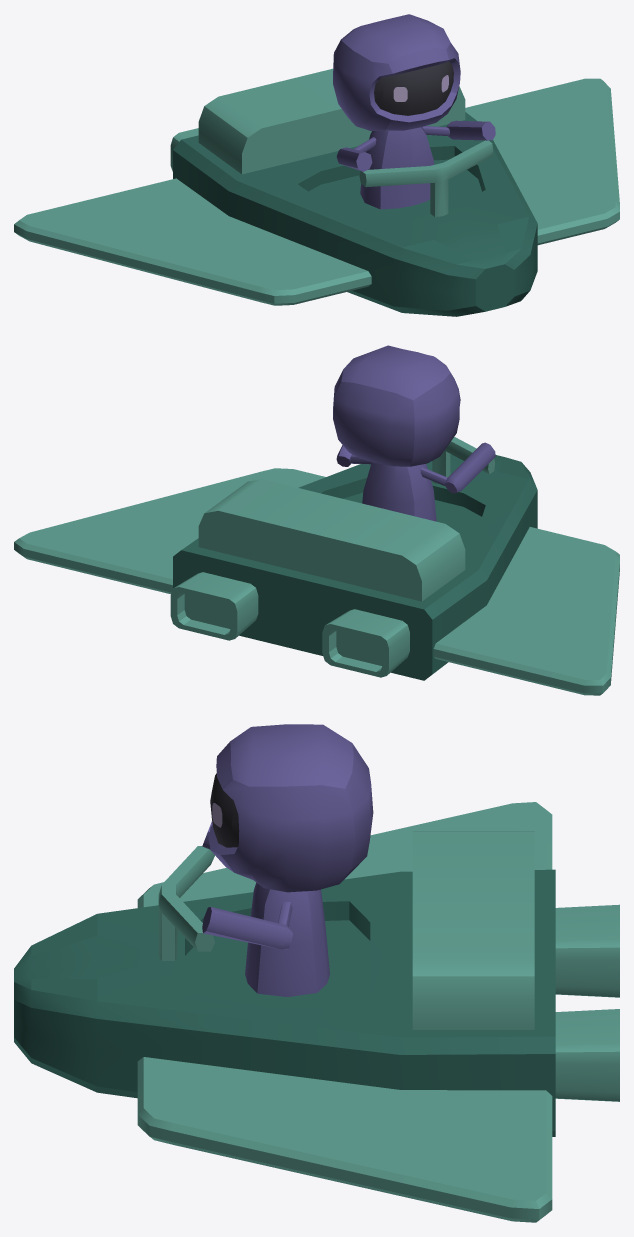
Rendered from player_v01.glb.
The picture shows the model from 3 angles, top to bottom: view 1: azimuth 30°, elevation 25°; view 2: azimuth 150°, elevation 25°; view 3: azimuth 270°, elevation 25°; orthographic projection. The views are drawn at different scales.
Visible parts, largest first — view 1: player003locator1_pCube14, player003pCube1, player003pCube18, player003helmet, player003pCube4, player003pCube17, player003visor, player003lower_arm, player003lower_arm1; view 2: player003locator1_pCube14, player003pCube1, player003pCube18, player003helmet, player003pCube19, player003pCube20, player003pCube4, player003lower_arm1, player003pCube17; view 3: player003pCube1, player003locator1_pCube14, player003pCube18, player003helmet, player003pCube4, player003pCube20, player003pCube19, player003pCube17, player003lower_arm, player003visor.
Boxes of the visible parts, x1,y1,x2,y2 form: player003locator1_pCube14: [14, 78, 619, 305]; player003pCube1: [173, 112, 537, 316]; player003pCube18: [198, 68, 465, 174]; player003helmet: [333, 14, 460, 130]; player003pCube4: [360, 127, 434, 209]; player003pCube17: [359, 140, 493, 216]; player003visor: [374, 61, 453, 115]; player003lower_arm: [446, 120, 495, 140]; player003lower_arm1: [336, 147, 372, 171]; player003locator1_pCube14: [14, 468, 619, 695]; player003pCube1: [173, 454, 537, 680]; player003pCube18: [198, 479, 465, 601]; player003helmet: [333, 345, 460, 466]; player003pCube19: [170, 572, 258, 640]; player003pCube20: [322, 609, 409, 677]; player003pCube4: [362, 462, 436, 521]; player003lower_arm1: [445, 442, 495, 493]; player003pCube17: [432, 437, 495, 485]; player003pCube1: [14, 869, 555, 1136]; player003locator1_pCube14: [137, 802, 552, 1222]; player003pCube18: [412, 831, 534, 1029]; player003helmet: [208, 724, 373, 892]; player003pCube4: [245, 882, 329, 996]; player003pCube20: [555, 904, 619, 997]; player003pCube19: [555, 1009, 619, 1101]; player003pCube17: [158, 846, 214, 960]; player003lower_arm: [202, 907, 292, 949]; player003visor: [210, 773, 239, 847].
Bounding box in the file's own units: 33.85 × 12.18 × 21.44.
